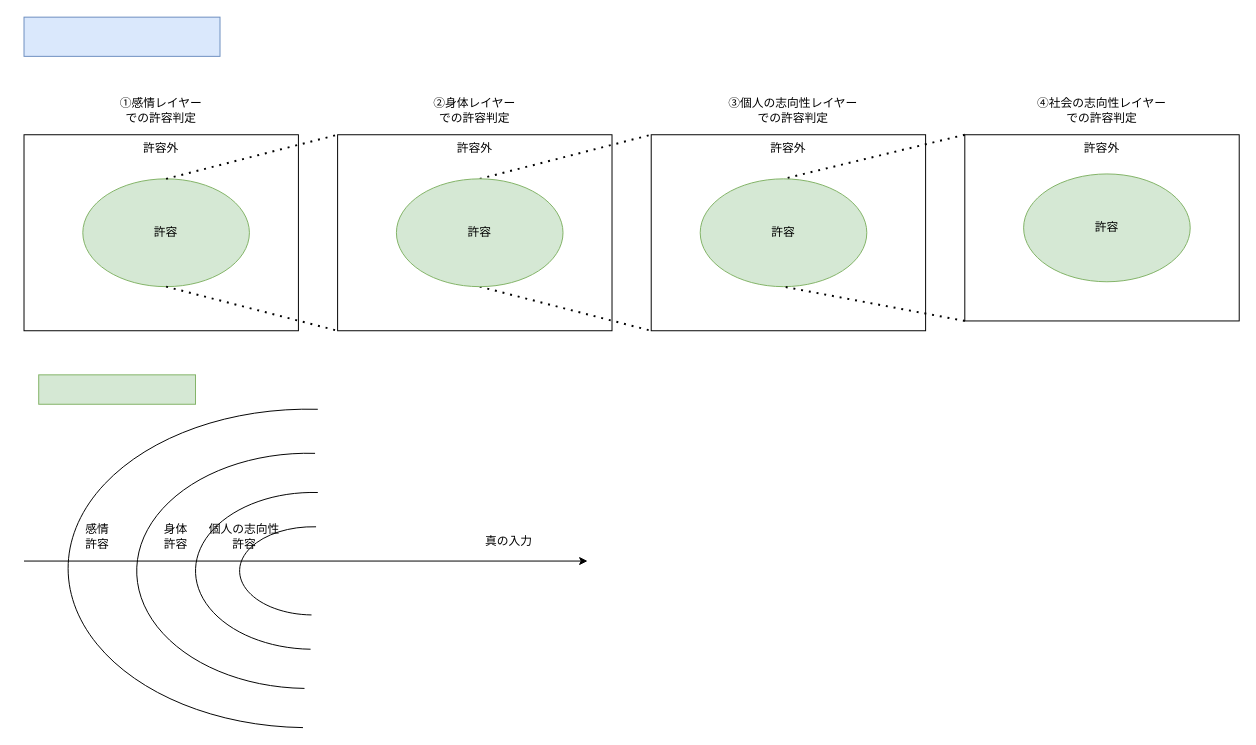
Image size: 1256x745. Some labels were removed from this diagram. The centre of each missing label's shape, as x and y in pixels:
"大きな4層の膜としての 許容" belongs at point 117,389.
"社会の志向性 許容" belongs at point 313,570.
"身体と感情レイヤーでの許容判定" belongs at point 121,36.
